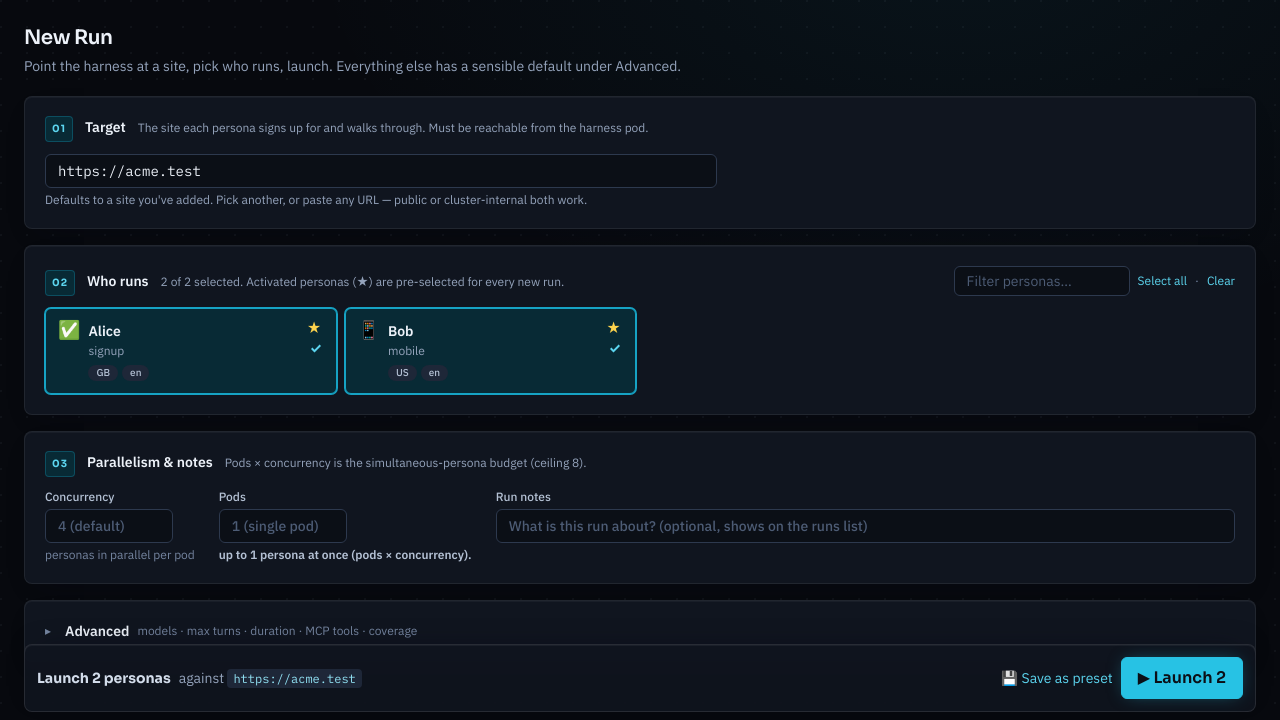
Test: <NewRun> — #1822 inline activation star › reverts the optimistic flip and surfaces an error when the PATCH fails
Click the button with test id "persona-default-toggle-alice".
click(314, 328)  # box [307, 319, 322, 337]
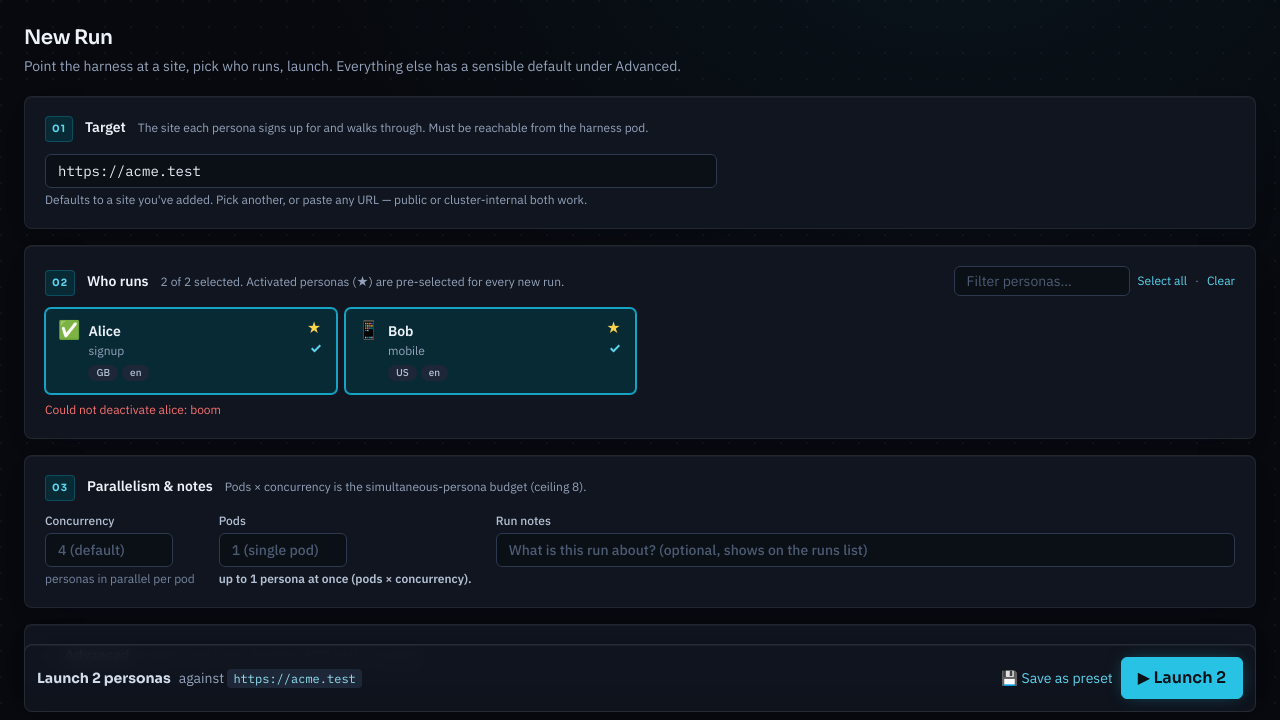
Expected: the text "Could not deactivate alice" is shown, [45, 402, 221, 417]
